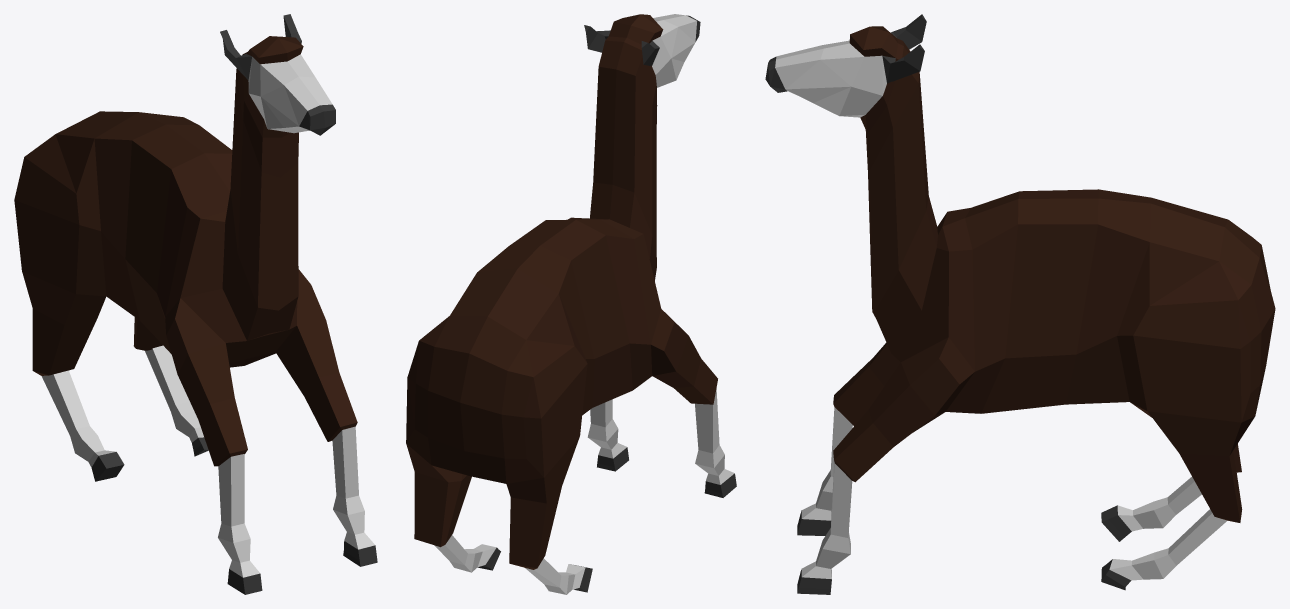
The model's file is Llama__1_000005.obj.
3 views of the same model, side by side, from view 1: azimuth 30°, elevation 25°; view 2: azimuth 150°, elevation 25°; view 3: azimuth 270°, elevation 25° (orthographic). The views are drawn at different scales.
Visible parts, largest first — view 1: Llama_Cylinder; view 2: Llama_Cylinder; view 3: Llama_Cylinder.
Boxes of the visible parts, x1,y1,x2,y2 form: Llama_Cylinder: (14, 14, 377, 594); Llama_Cylinder: (406, 14, 736, 594); Llama_Cylinder: (765, 14, 1275, 594).
Bounding box in the file's own units: 1.58 × 5.16 × 4.44.
